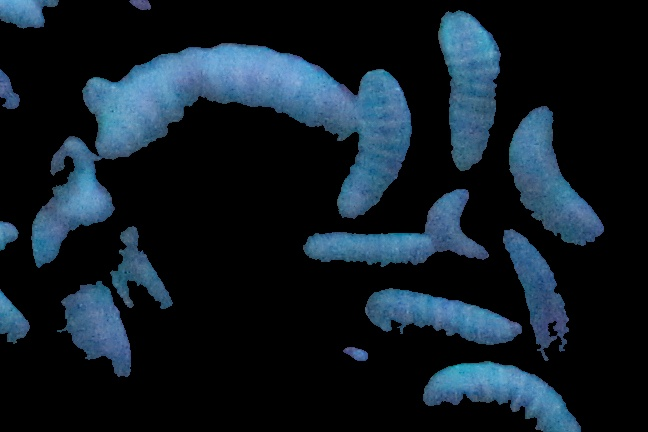larvae: (89, 43, 360, 169), (32, 203, 139, 386), (503, 102, 615, 248), (413, 356, 597, 432), (330, 64, 405, 223), (434, 10, 503, 179), (363, 284, 527, 355), (111, 215, 182, 348), (500, 229, 572, 354), (304, 234, 439, 276), (427, 185, 487, 264), (1, 212, 34, 346), (1, 29, 32, 133), (1, 4, 51, 30)
